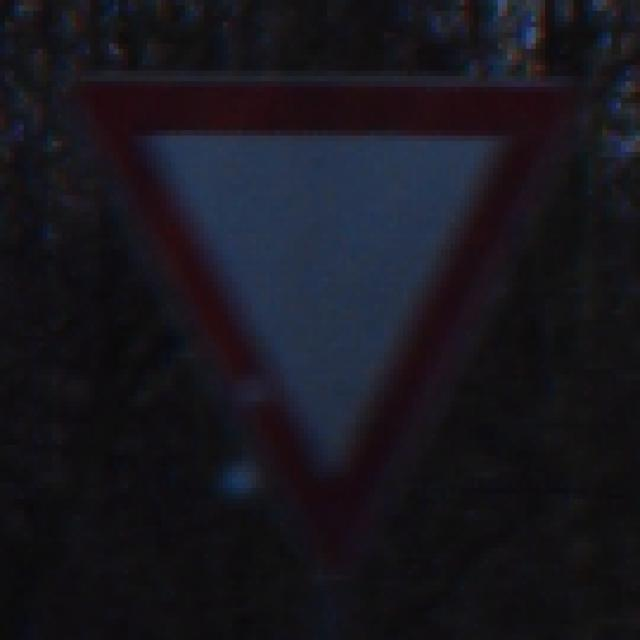Give Way: (53, 61, 589, 587)
